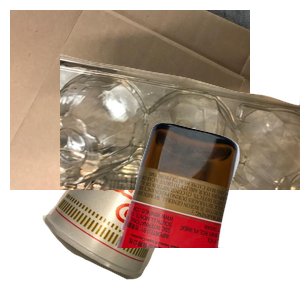cardboard: (10, 10, 250, 190)
glass: (113, 120, 300, 300)
plastic: (60, 52, 300, 232)
trash: (40, 121, 221, 300)
